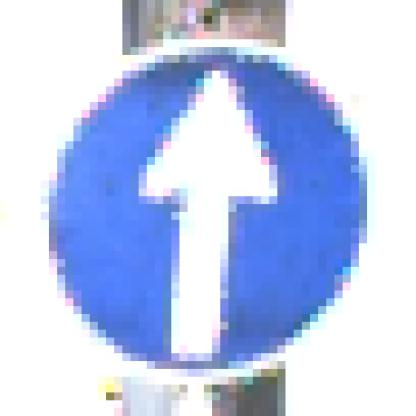AheadOnly: (42, 40, 376, 378)
